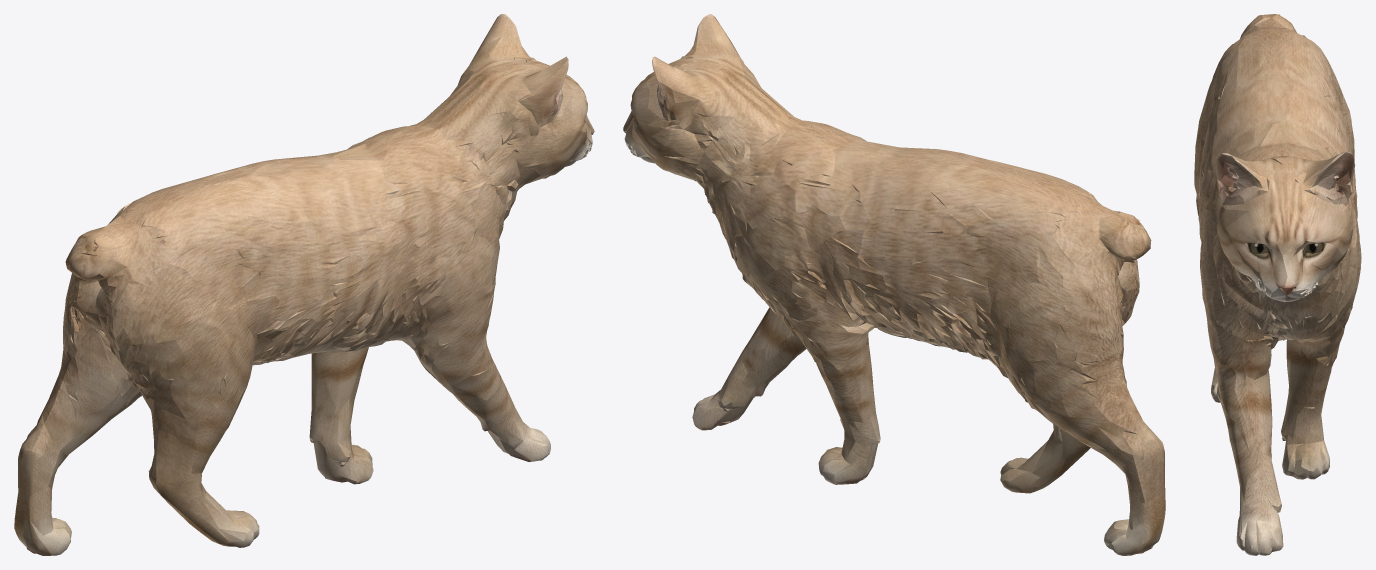
File: MAYORSTUB.glb
The picture shows the model from 3 angles, left to right: view 1: azimuth 30°, elevation 25°; view 2: azimuth 150°, elevation 25°; view 3: azimuth 270°, elevation 25°; orthographic projection. The views are drawn at different scales.
Visible parts, largest first — view 1: fit; view 2: fit; view 3: fit.
Boxes of the visible parts, box(x1,y1,x2,y2) form: fit: box(14, 14, 594, 555); fit: box(623, 14, 1165, 555); fit: box(1194, 14, 1361, 555).
Size of the model in its own units: 1.45 by 1 by 0.3721.
1 material, 1 textured.
